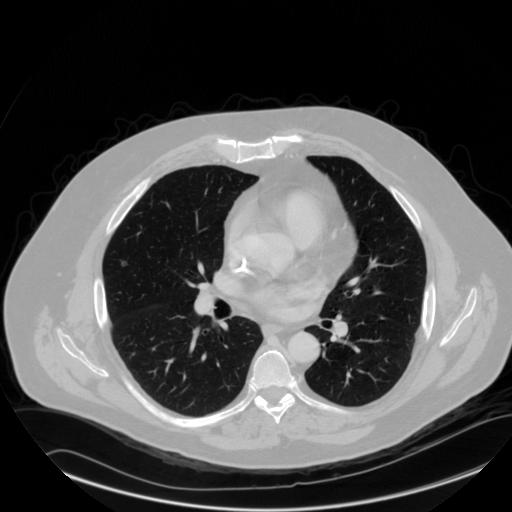nodule: (120, 259, 129, 268)
